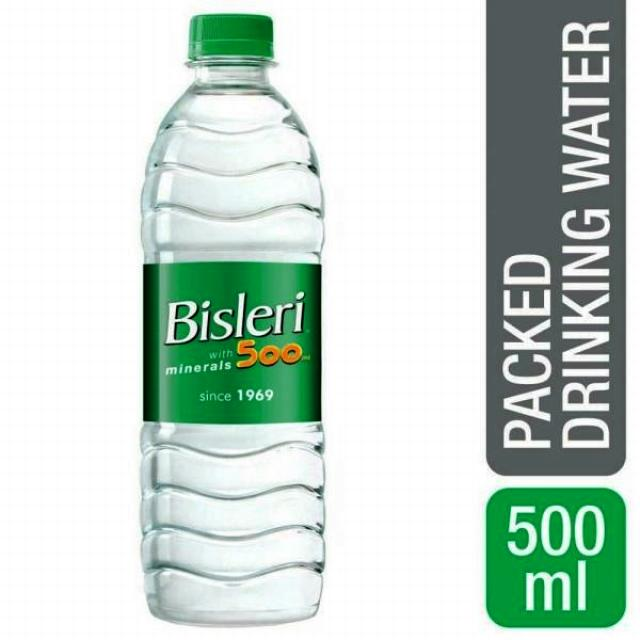full-bottle: (135, 9, 326, 632)
